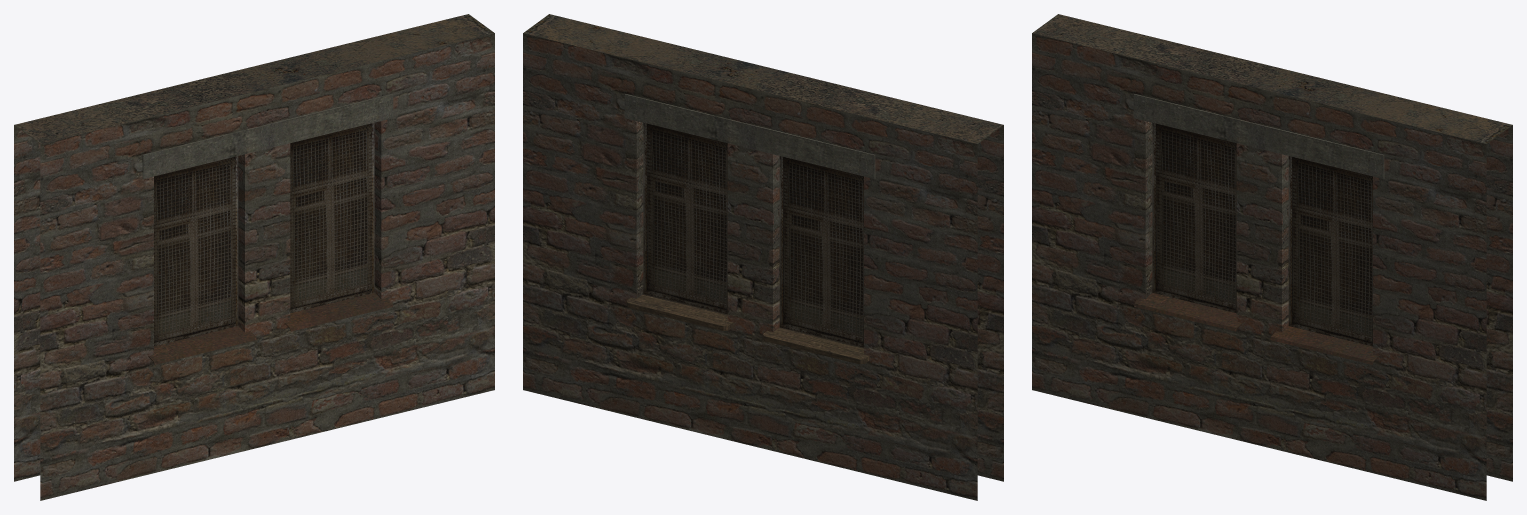
Rendered from windows_hr_2.dae.
3 views of the same model, side by side, from view 1: azimuth 30°, elevation 25°; view 2: azimuth 150°, elevation 25°; view 3: azimuth 330°, elevation 25° (orthographic).
Visible parts, largest first — view 1: windows_hr_2; view 2: windows_hr_2; view 3: windows_hr_2.
Boxes of the visible parts, <box> form: windows_hr_2: <box>14,14,494,500</box>; windows_hr_2: <box>523,14,1003,500</box>; windows_hr_2: <box>1032,14,1512,500</box>.
Bounding box in the file's own units: 4 × 0.595 × 3.
Materials: 6 (6 with a texture image).
